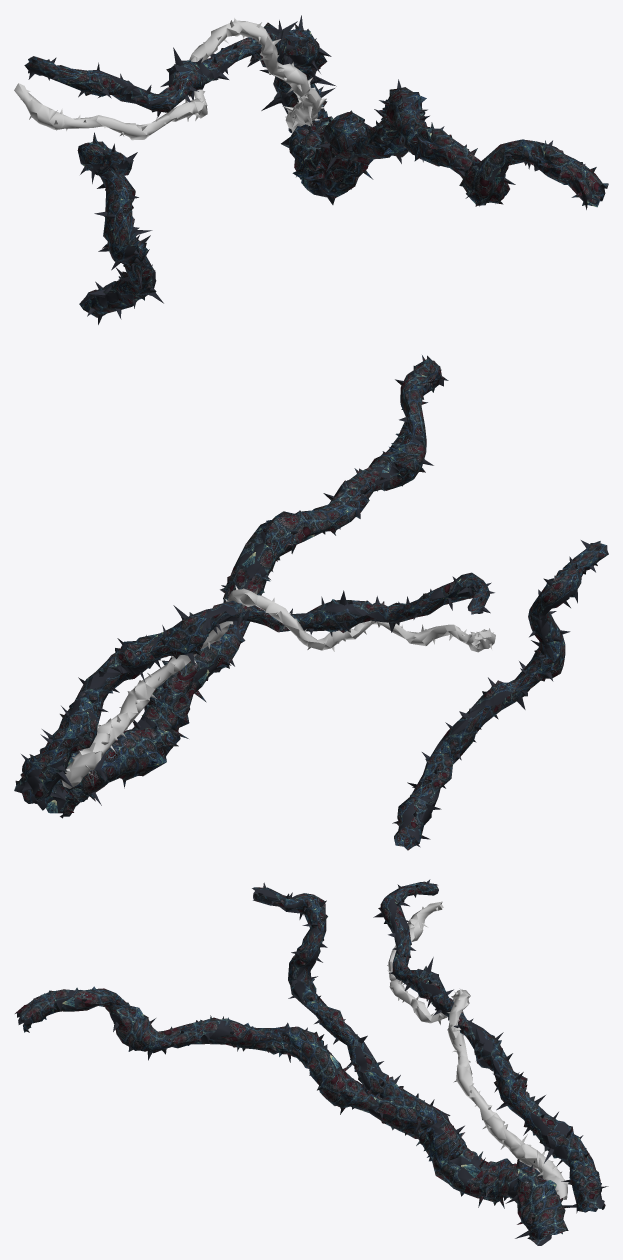
The model's file is 02_16_makaizyu.fbx.
The picture shows the model from 3 angles, top to bottom: view 1: azimuth 30°, elevation 25°; view 2: azimuth 150°, elevation 25°; view 3: azimuth 270°, elevation 25°; orthographic projection. The views are drawn at different scales.
Visible parts, largest first — view 1: LODGroup_3_MainMesh_1_SubMesh_3, LODGroup_3_MainMesh_1_SubMesh_1, LODGroup_3_MainMesh_1_SubMesh_4, LODGroup_3_MainMesh_1_SubMesh_2; view 2: LODGroup_3_MainMesh_1_SubMesh_3, LODGroup_3_MainMesh_1_SubMesh_1, LODGroup_3_MainMesh_1_SubMesh_2, LODGroup_3_MainMesh_1_SubMesh_4; view 3: LODGroup_3_MainMesh_1_SubMesh_3, LODGroup_3_MainMesh_1_SubMesh_1, LODGroup_3_MainMesh_1_SubMesh_2, LODGroup_3_MainMesh_1_SubMesh_4.
Boxes of the visible parts, x1=… form: LODGroup_3_MainMesh_1_SubMesh_3: x1=24, y1=15, x2=336, y2=324; LODGroup_3_MainMesh_1_SubMesh_1: x1=288, y1=79, x2=605, y2=207; LODGroup_3_MainMesh_1_SubMesh_4: x1=14, y1=18, x2=326, y2=140; LODGroup_3_MainMesh_1_SubMesh_2: x1=281, y1=87, x2=608, y2=209; LODGroup_3_MainMesh_1_SubMesh_3: x1=14, y1=540, x2=608, y2=850; LODGroup_3_MainMesh_1_SubMesh_1: x1=35, y1=355, x2=448, y2=805; LODGroup_3_MainMesh_1_SubMesh_2: x1=46, y1=355, x2=443, y2=818; LODGroup_3_MainMesh_1_SubMesh_4: x1=61, y1=585, x2=495, y2=788; LODGroup_3_MainMesh_1_SubMesh_3: x1=252, y1=879, x2=608, y2=1213; LODGroup_3_MainMesh_1_SubMesh_1: x1=23, y1=986, x2=571, y2=1239; LODGroup_3_MainMesh_1_SubMesh_2: x1=15, y1=989, x2=562, y2=1245; LODGroup_3_MainMesh_1_SubMesh_4: x1=387, y1=901, x2=568, y2=1199.
Bounding box in the file's own units: 2527 × 1597 × 3703.
